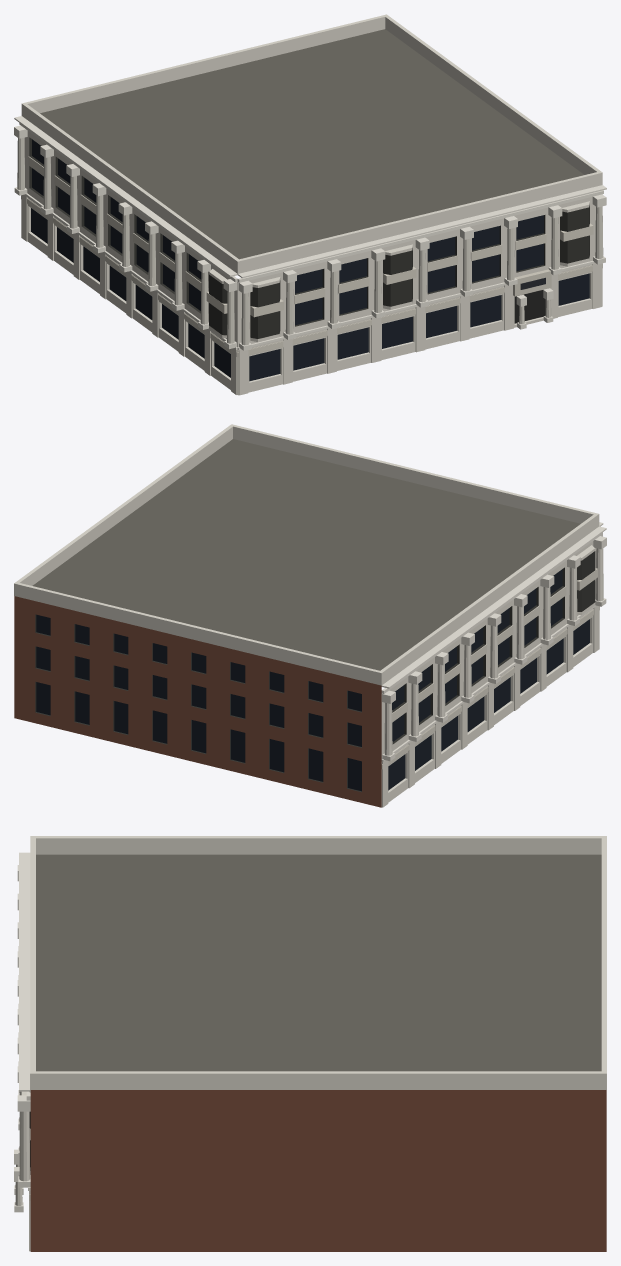
The model's file is arkansas-gazette-building.glb.
3 views of the same model, one above another, from view 1: azimuth 30°, elevation 25°; view 2: azimuth 150°, elevation 25°; view 3: azimuth 270°, elevation 25° (orthographic). The views are drawn at different scales.
Visible parts, largest first — view 1: arkansas_roof, arkansas_stone, arkansas_glass, arkansas_trim, arkansas_sash, arkansas_trim2, arkansas_stone2, arkansas_dark; view 2: arkansas_roof, arkansas_brick, arkansas_stone, arkansas_glass, arkansas_trim, arkansas_sash, arkansas_trim2; view 3: arkansas_roof, arkansas_brick2, arkansas_stone, arkansas_trim.
Boxes of the visible parts, box(x1,y1,x2,y2) form: arkansas_roof: box(40, 29, 583, 259); arkansas_stone: box(17, 14, 603, 395); arkansas_glass: box(31, 139, 589, 381); arkansas_trim: box(14, 116, 606, 350); arkansas_sash: box(29, 137, 589, 338); arkansas_trim2: box(21, 156, 602, 357); arkansas_stone2: box(27, 198, 592, 355); arkansas_dark: box(514, 290, 545, 323); arkansas_roof: box(32, 439, 580, 670); arkansas_brick: box(14, 596, 381, 807); arkansas_stone: box(14, 424, 603, 807); arkansas_glass: box(36, 569, 589, 791); arkansas_trim: box(381, 522, 606, 761); arkansas_sash: box(35, 551, 595, 792); arkansas_trim2: box(381, 568, 599, 769); arkansas_roof: box(36, 854, 601, 1071); arkansas_brick2: box(30, 1090, 606, 1251); arkansas_stone: box(15, 836, 606, 1251); arkansas_trim: box(14, 852, 30, 1212).
Size of the model in its own units: 44.42 by 15.2 by 45.81.
